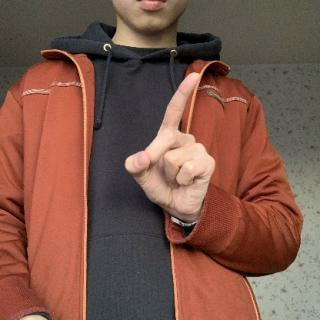BAA: (127, 65, 216, 223)
